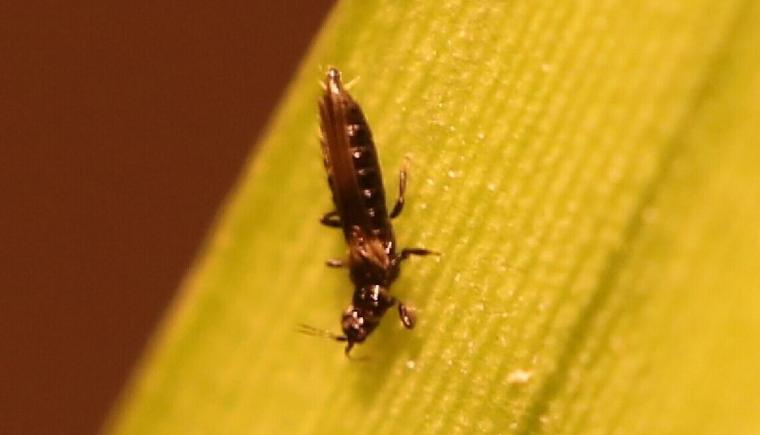Phlaeothripidae: (298, 69, 445, 365)
